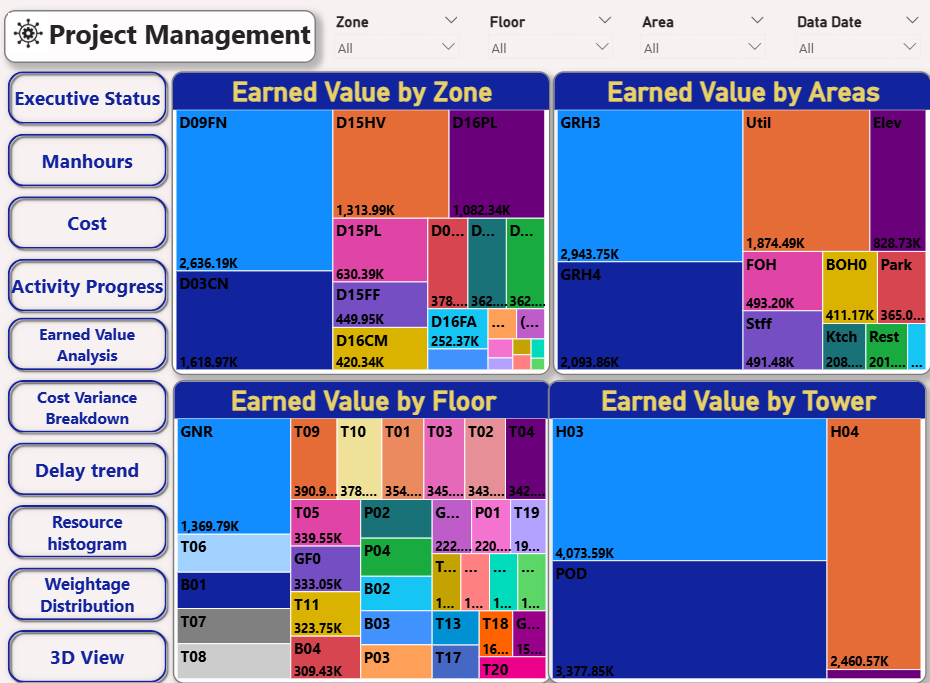

The dashboard page shown, as its layout file describes it:
{"tool":"powerbi","page":{"name":"EVA","canvas":[1500,1100],"ordinal":4},"visuals":[{"type":"textbox","box":[15.2,16.2,499.3,84.6],"z":0},{"type":"image","box":[15.2,16.9,77.9,74.5],"z":1000},{"type":"slicer","fields":{"Values":["Floorcodes_Table.Floor Code Value"]},"box":[780.3,16.9,220,84.6],"z":2000},{"type":"slicer","fields":{"Values":["H areas_Table.H aresCode Value"]},"box":[1024,16.9,220,84.6],"z":3000},{"type":"slicer","fields":{"Values":["Aug14tasks_Table.Zone Number"]},"box":[534.9,16.9,220,84.6],"z":4000},{"type":"slicer","fields":{"Values":["Summary_Table.Data Date."]},"box":[1272.9,16.9,220,84.6],"z":5000},{"type":"actionButton","box":[14,106,270,100],"z":6000},{"type":"actionButton","box":[14,206,270,100],"z":7000},{"type":"actionButton","box":[14,306,270,100],"z":8000},{"type":"actionButton","box":[14,406,270,100],"z":9000},{"type":"actionButton","box":[14,500,270,100],"z":10000},{"type":"actionButton","box":[14,600,270,100],"z":11000},{"type":"actionButton","box":[14,700,270,100],"z":12000},{"type":"actionButton","box":[14,800,270,100],"z":13000},{"type":"actionButton","box":[14,900,270,100],"z":14000},{"type":"actionButton","box":[14,1000,270,100],"z":15000},{"type":"treemap","title":"Earned Value by Zone","fields":{"Values":["Sum(Task_Table.Earned Value Cost)"],"Group":["Task_Table.CSI Division"]},"box":[284,114,606,486],"z":16000},{"type":"treemap","title":"Earned Value by Areas","fields":{"Values":["Sum(Task_Table.Earned Value Cost)"],"Group":["Task_Table.Hotel Area"]},"box":[894,114,606,486],"z":17000},{"type":"treemap","title":"Earned Value by Floor","fields":{"Values":["Sum(Task_Table.Earned Value Cost)"],"Group":["Task_Table.Floor Number"]},"box":[286,607.2,606,486],"z":18000},{"type":"treemap","title":"Earned Value by Tower","fields":{"Values":["Sum(Task_Table.Earned Value Cost)"],"Group":["Task_Table.Tower Number"]},"box":[886,607.2,606,486],"z":19000}]}

Visuals, with their boxes in screenshot pixels (x1, y1, x2, y2), scaled from the page's 1500x1100 canvas onto the 930x683 screenshot:
textbox: [left=9, top=10, right=319, bottom=63]
image: [left=9, top=10, right=58, bottom=57]
slicer - Floorcodes_Table.Floor Code Value: [left=484, top=10, right=620, bottom=63]
slicer - H areas_Table.H aresCode Value: [left=635, top=10, right=771, bottom=63]
slicer - Aug14tasks_Table.Zone Number: [left=332, top=10, right=468, bottom=63]
slicer - Summary_Table.Data Date.: [left=789, top=10, right=926, bottom=63]
actionButton: [left=9, top=66, right=176, bottom=128]
actionButton: [left=9, top=128, right=176, bottom=190]
actionButton: [left=9, top=190, right=176, bottom=252]
actionButton: [left=9, top=252, right=176, bottom=314]
actionButton: [left=9, top=310, right=176, bottom=373]
actionButton: [left=9, top=373, right=176, bottom=435]
actionButton: [left=9, top=435, right=176, bottom=497]
actionButton: [left=9, top=497, right=176, bottom=559]
actionButton: [left=9, top=559, right=176, bottom=621]
actionButton: [left=9, top=621, right=176, bottom=682]
"Earned Value by Zone" treemap: [left=176, top=71, right=552, bottom=373]
"Earned Value by Areas" treemap: [left=554, top=71, right=929, bottom=373]
"Earned Value by Floor" treemap: [left=177, top=377, right=553, bottom=679]
"Earned Value by Tower" treemap: [left=549, top=377, right=925, bottom=679]
